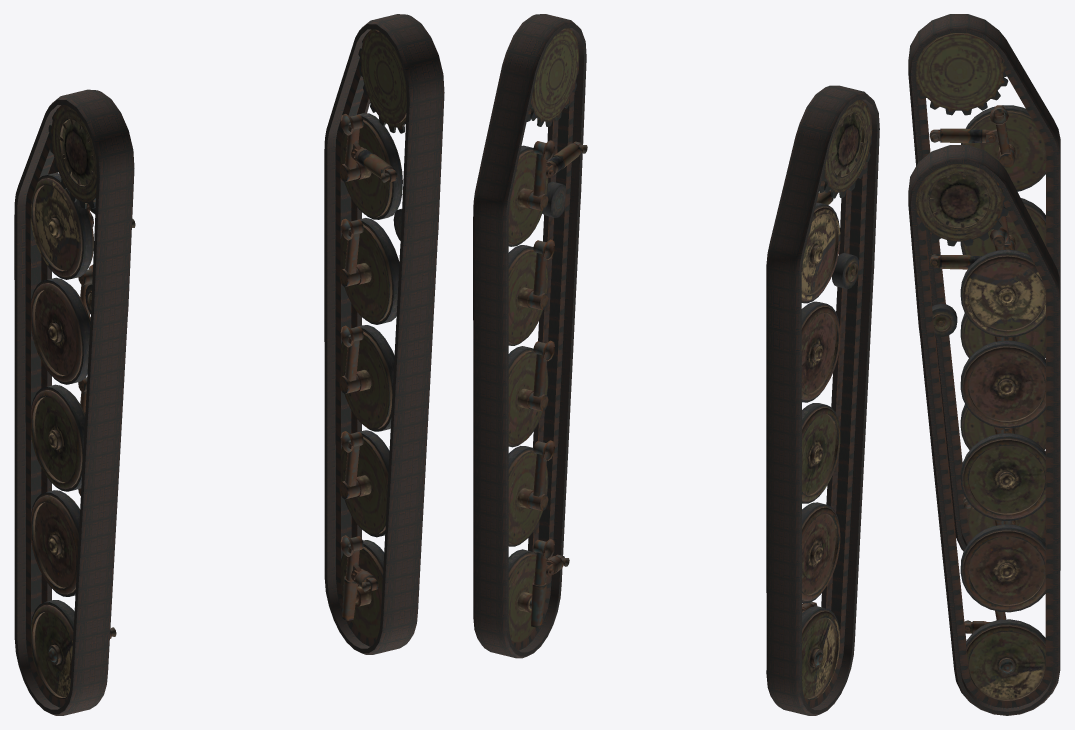
File: Chassis_02.glb
3 renders of one model, left to right at view 1: azimuth 30°, elevation 25°; view 2: azimuth 150°, elevation 25°; view 3: azimuth 270°, elevation 25°, orthographic. The views are drawn at different scales.
Parts seen in each view (by area): view 1: set_1_group_0, set_0_group_0, set_3_group_0, set_2_group_0; view 2: set_0_group_0, set_1_group_0, set_3_group_0, set_2_group_0; view 3: set_3_group_0, set_1_group_0, set_2_group_0, set_0_group_0.
Part boxes in pixels (box(x1,y1,x2,y2)): set_1_group_0: box(324, 14, 444, 654); set_0_group_0: box(14, 89, 134, 715); set_3_group_0: box(339, 29, 406, 637); set_2_group_0: box(30, 105, 135, 698); set_0_group_0: box(766, 85, 879, 715); set_1_group_0: box(473, 14, 586, 658); set_3_group_0: box(508, 28, 587, 642); set_2_group_0: box(801, 100, 872, 699); set_3_group_0: box(915, 164, 1045, 701); set_1_group_0: box(908, 145, 1060, 715); set_2_group_0: box(915, 33, 1045, 538); set_0_group_0: box(908, 14, 1060, 551).
Bounding box in the file's own units: 2.39 × 4.27 × 1.06.
4 materials, 4 textured.
